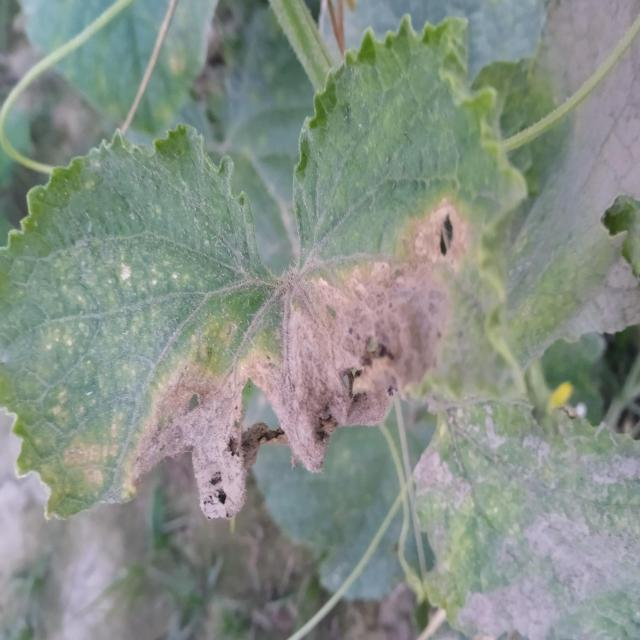cucumber_gummy: (2, 8, 499, 530), (396, 383, 640, 640)
